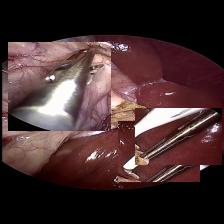Grasper: (7, 42, 109, 131), (134, 108, 220, 165)
Hook: (117, 121, 199, 182)
